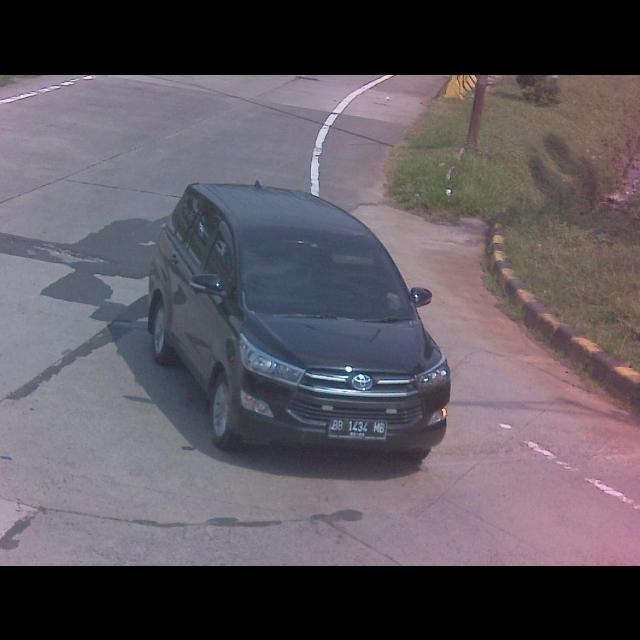plate: (328, 417, 388, 441)
